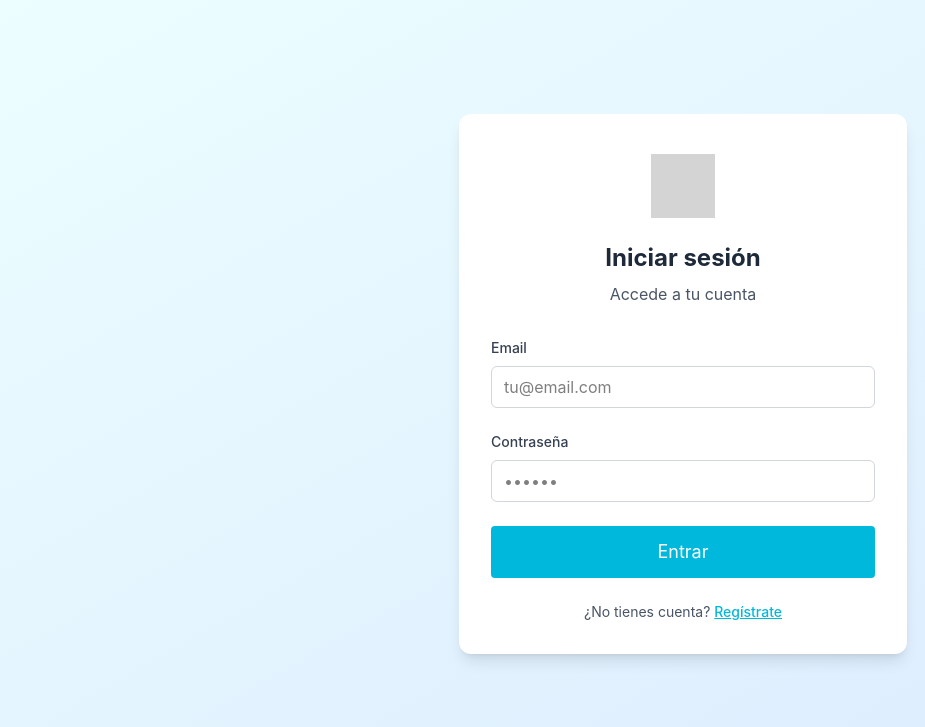
Test: Login page › si login devuelve roles vacíos, muestra error de roles
Step 1. Type "x@mail.com" into the field labelled "Email" → (683, 387), box [491, 366, 875, 408]
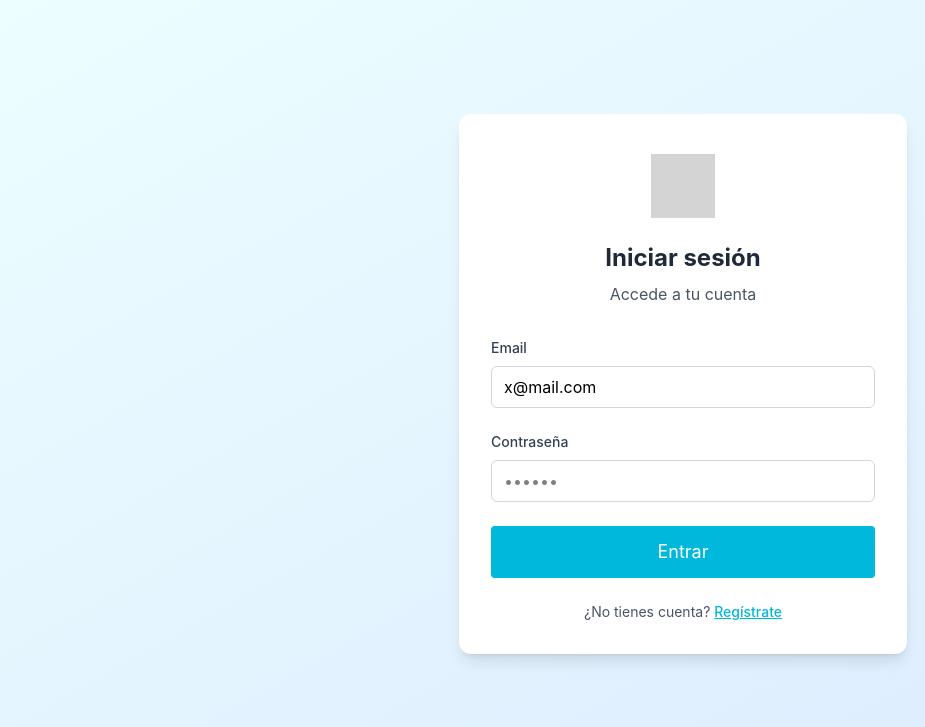
Step 2. Type "123456" into the password field labelled "Contraseña" → (683, 481), box [491, 460, 875, 502]
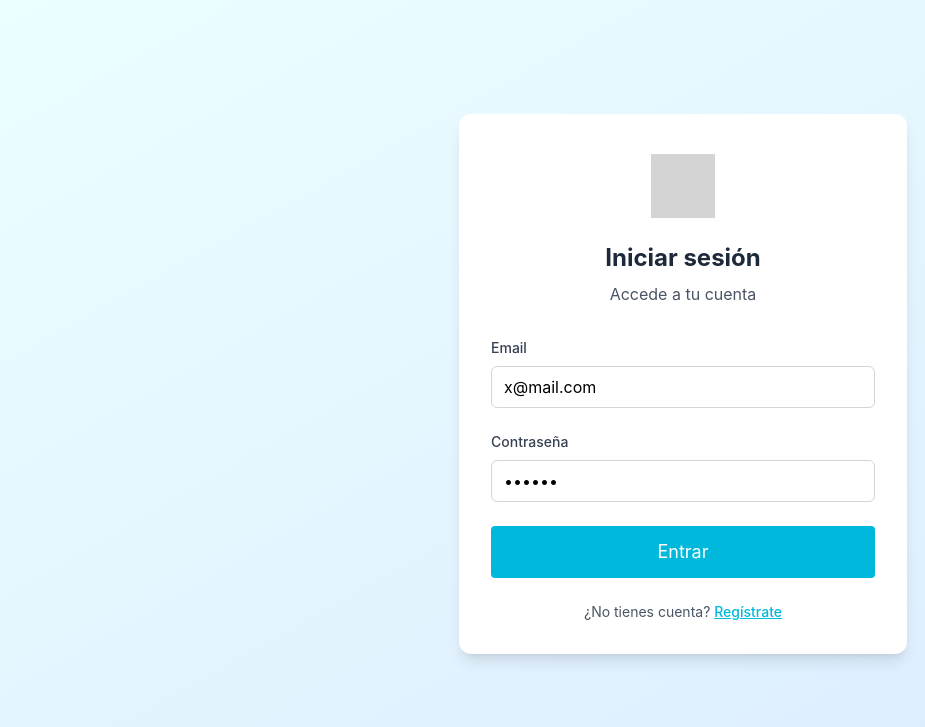
Step 3. Click the button "Entrar" → (683, 552), box [491, 526, 875, 578]
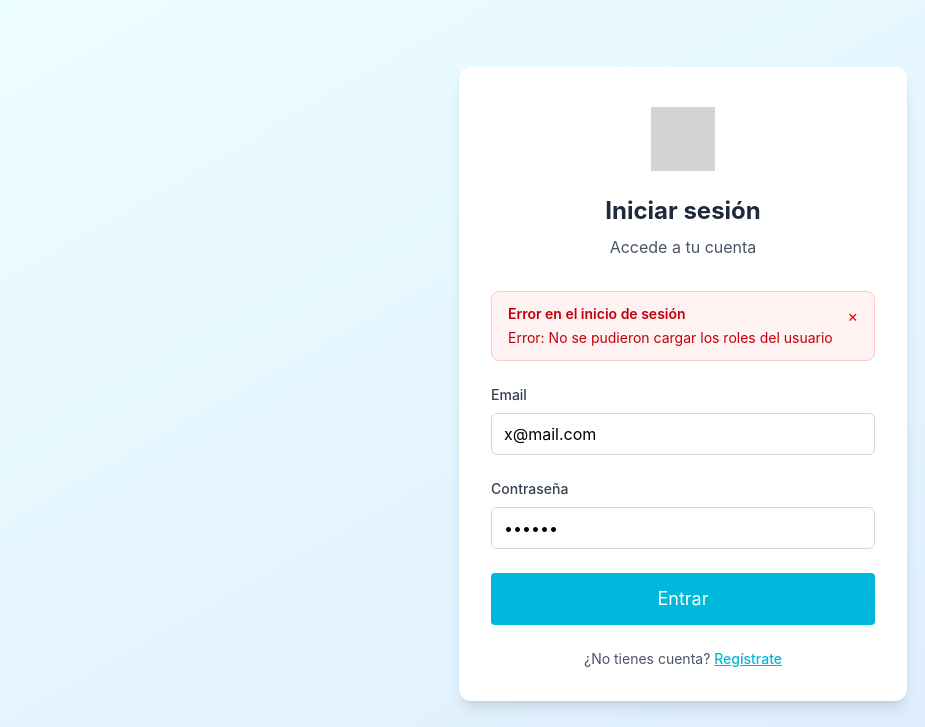
Result: the text "Error: No se pudieron cargar los roles del usuario" is shown at [508, 328, 833, 348]
